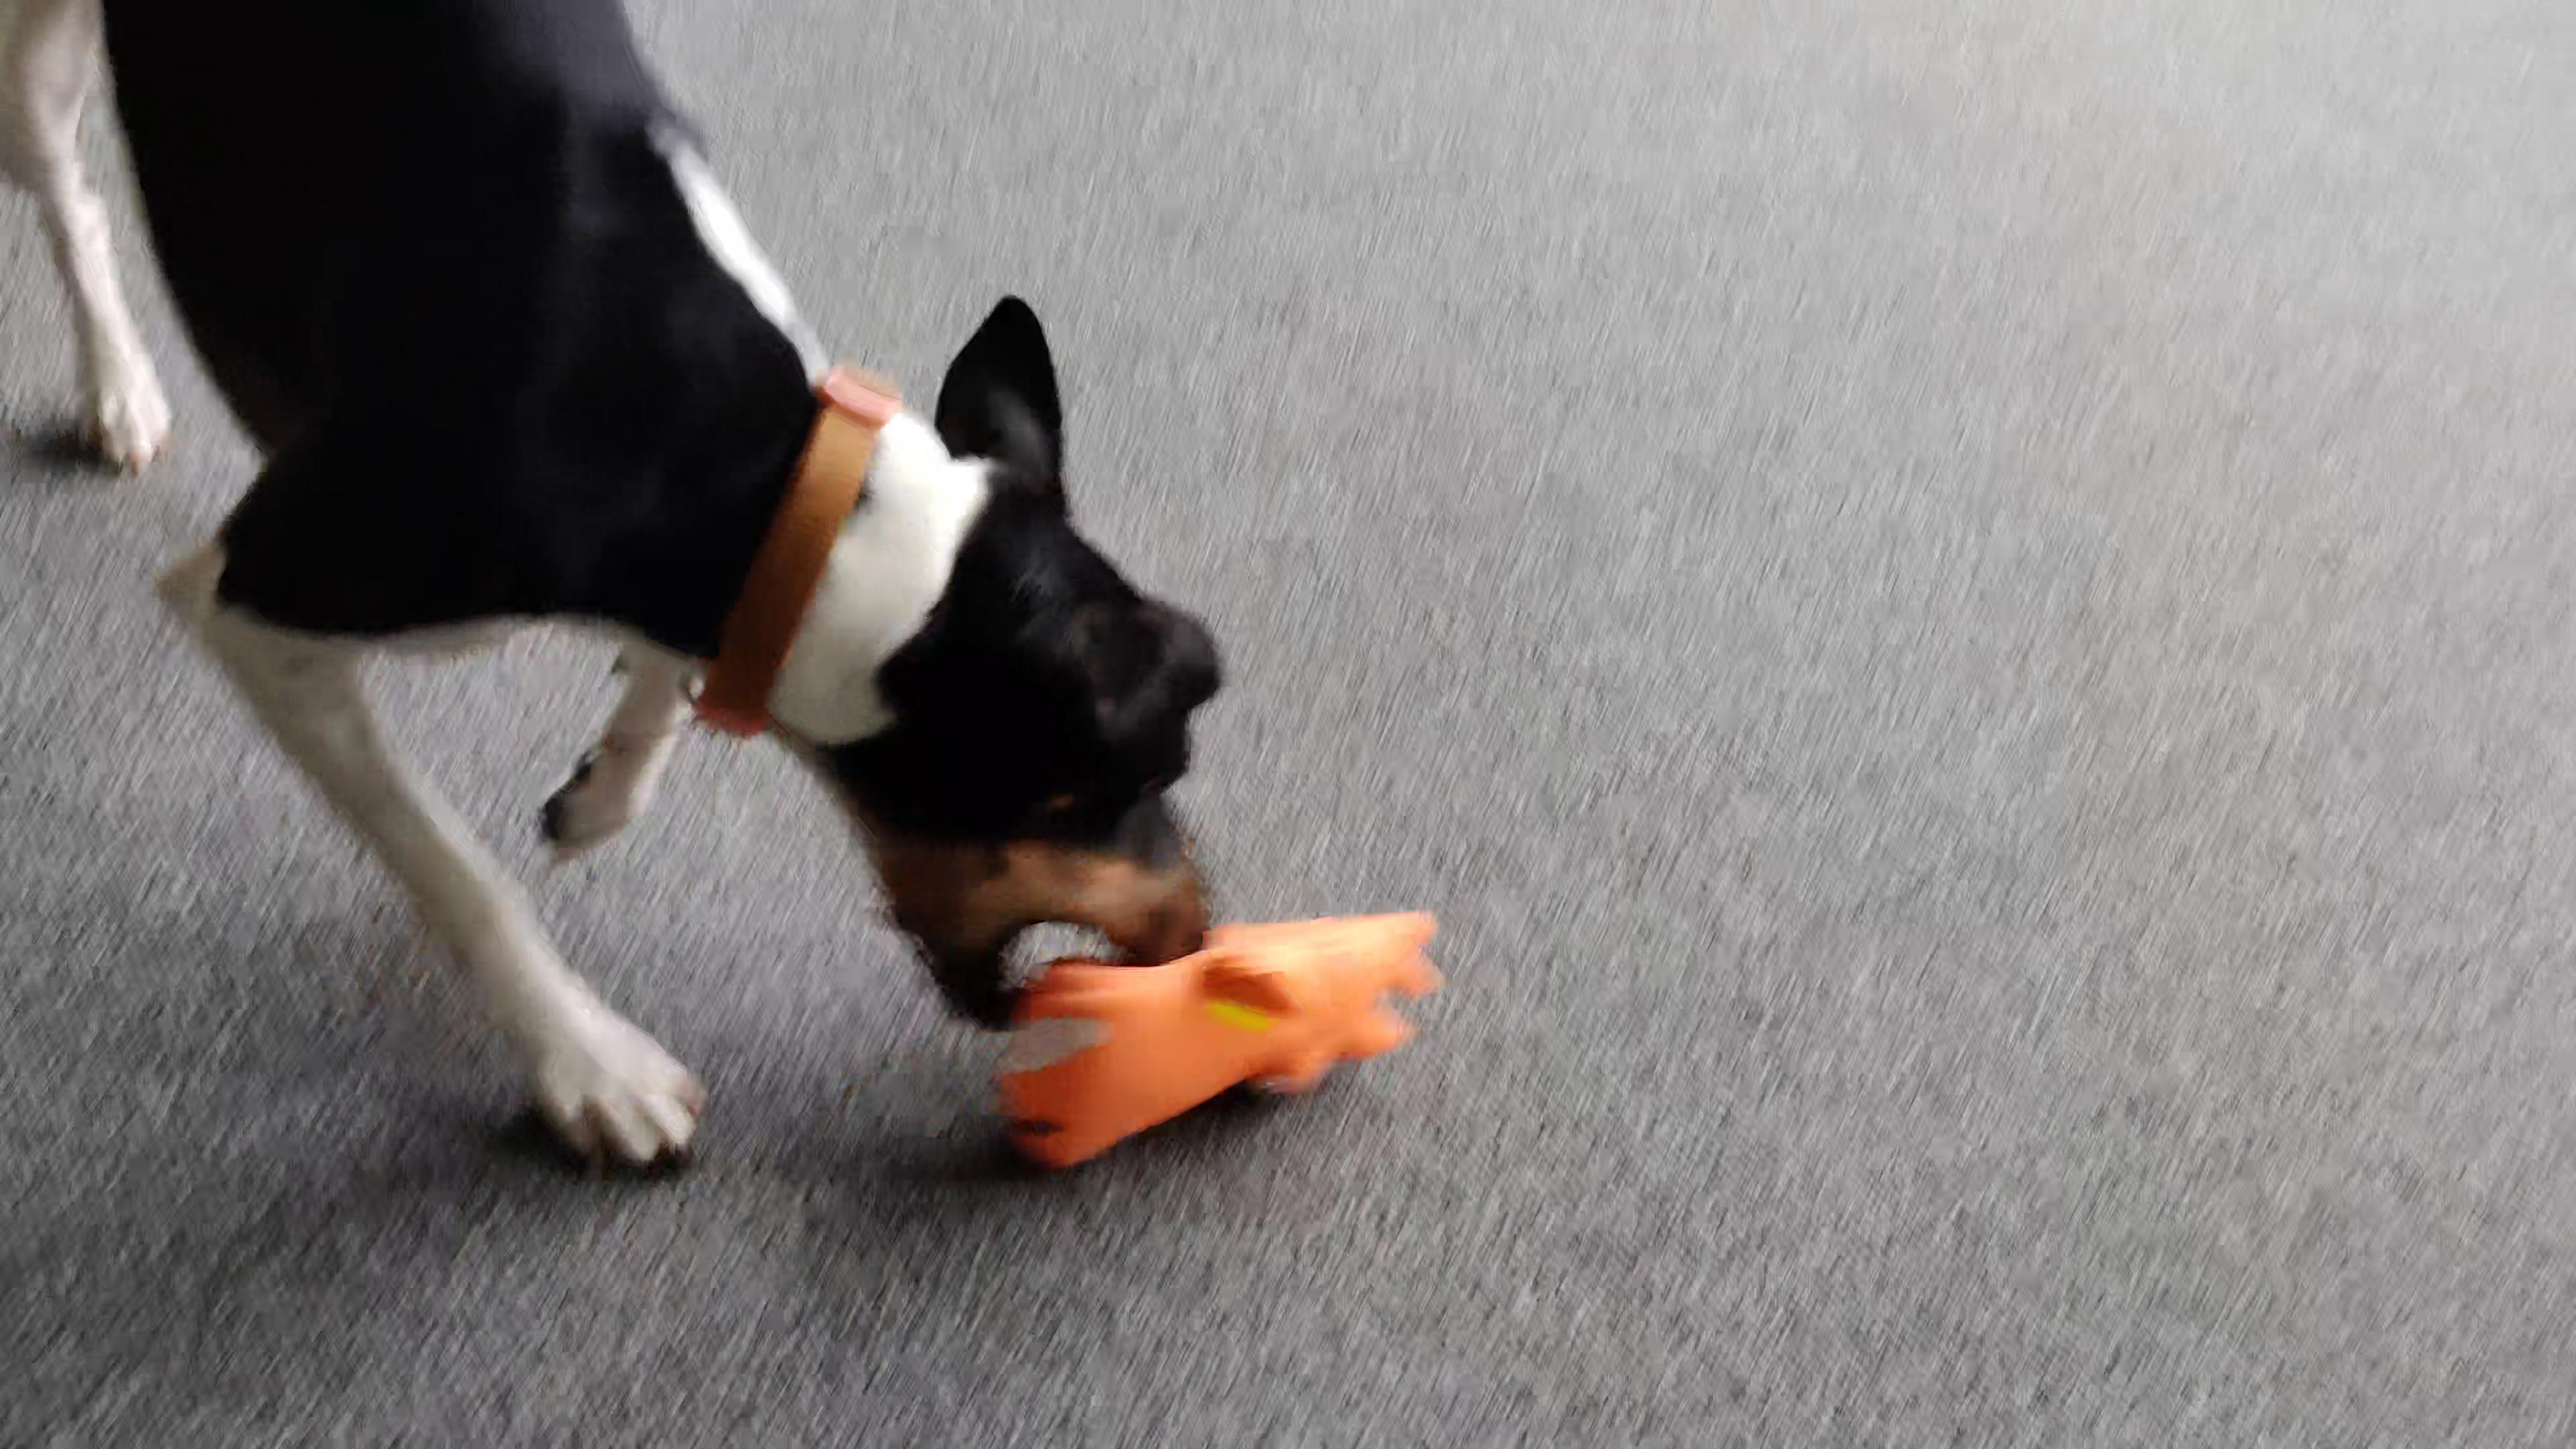Dog: (0, 0, 1235, 1187)
